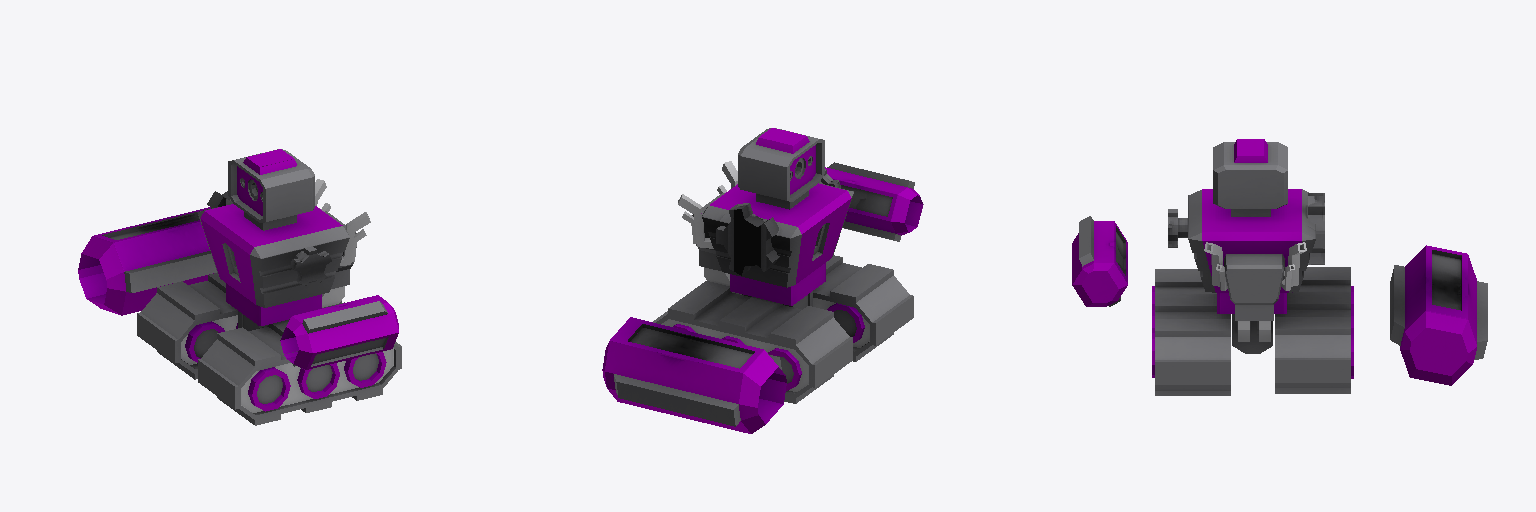
3 views of the same model, side by side, from view 1: azimuth 30°, elevation 25°; view 2: azimuth 150°, elevation 25°; view 3: azimuth 270°, elevation 25° (orthographic).
Visible parts, largest first — view 1: Object006, Object013, Object011, Object014, Object012, Object010, Object008; view 2: Object006, Object011, Object013, Object012, Object014, Object009, Object010; view 3: Object006, Object011, Object013, Object012, Object010, Object014, Object009, Object008.
Boxes of the visible parts, <box> form: Object006: <box>137,273,401,425</box>; Object013: <box>197,204,349,330</box>; Object011: <box>78,207,216,315</box>; Object014: <box>280,295,398,369</box>; Object012: <box>228,149,314,230</box>; Object010: <box>315,179,370,307</box>; Object008: <box>290,246,331,285</box>; Object006: <box>653,255,913,403</box>; Object011: <box>602,317,786,433</box>; Object013: <box>702,183,853,309</box>; Object012: <box>738,128,824,209</box>; Object014: <box>825,162,923,241</box>; Object009: <box>716,203,779,275</box>; Object010: <box>678,161,741,294</box>; Object006: <box>1152,267,1353,395</box>; Object011: <box>1390,245,1487,385</box>; Object013: <box>1188,189,1315,353</box>; Object012: <box>1213,139,1287,216</box>; Object010: <box>1204,242,1306,341</box>; Object014: <box>1072,216,1127,306</box>; Object009: <box>1308,193,1324,264</box>; Object008: <box>1168,209,1187,247</box>.
Bounding box in the file's own units: 87.45 × 108 × 188.
Materials: 1 (1 with a texture image).